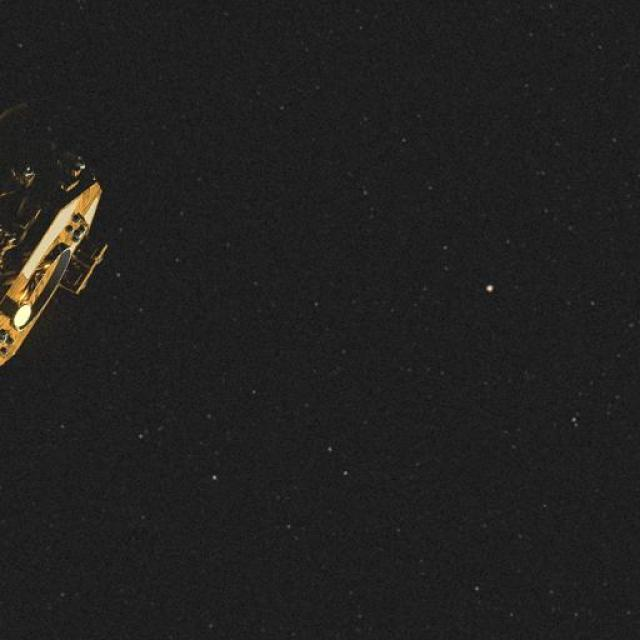lisa_pathfinder: (0, 88, 136, 384)
